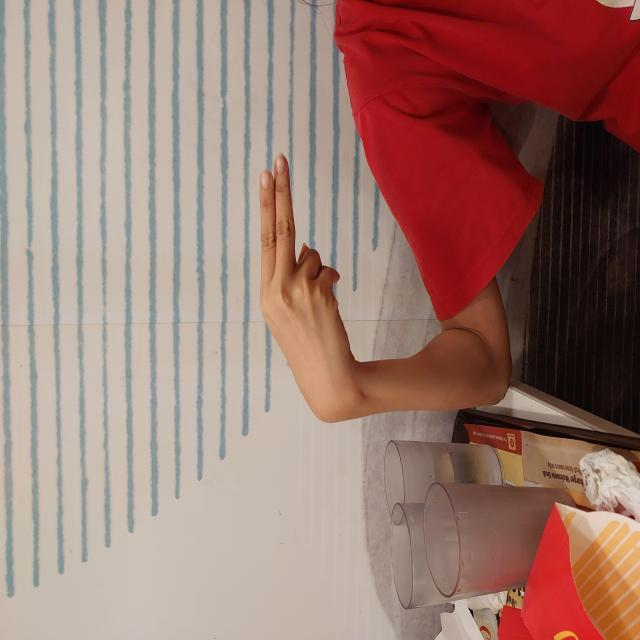H: (215, 257, 489, 359)
